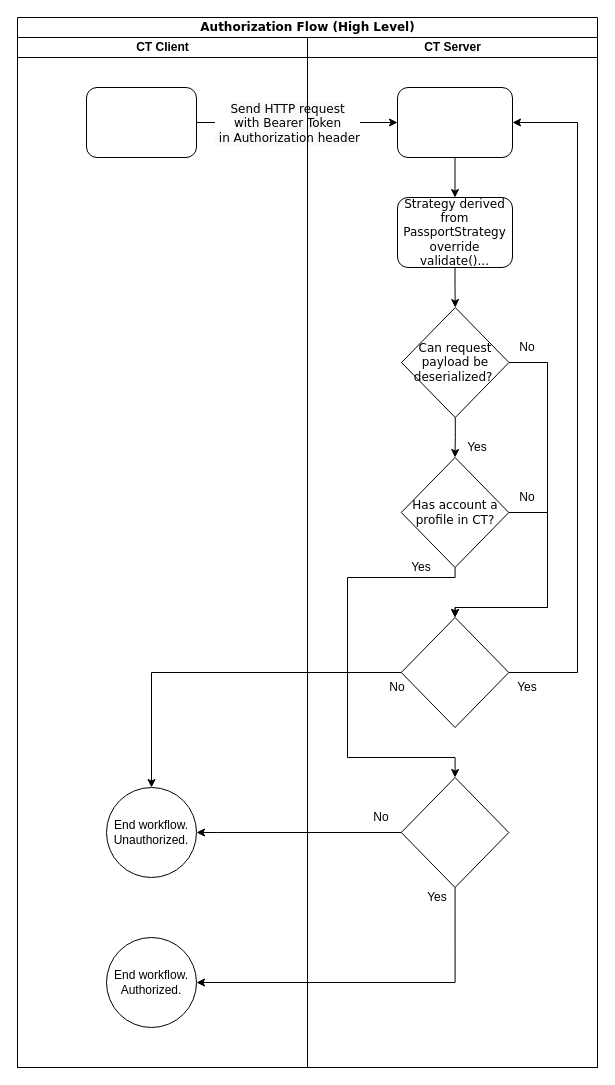
This 615x1085 diagram has some shape labels left out. Each missing label, with the centre of its shape:
"Are there more AuthGuards?" belongs at [454,672].
"Guard derived from AuthGuard canActivate..." belongs at [454,122].
"Has the profile permissions to access the resource?" belongs at [454,832].
"Send GraphQL request" belongs at [141,122].
